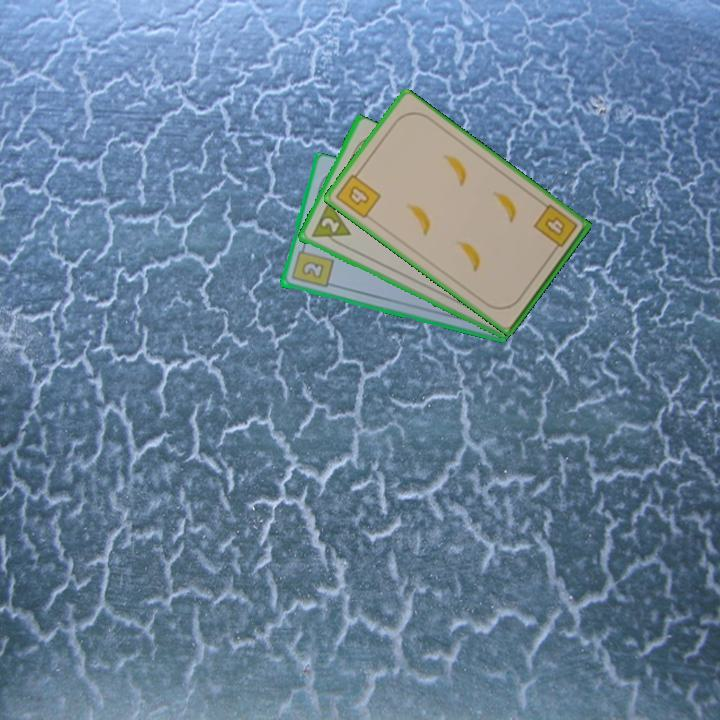2b: (288, 242, 336, 291)
2p: (307, 200, 353, 250)
4b: (332, 166, 384, 221), (530, 201, 580, 256)
